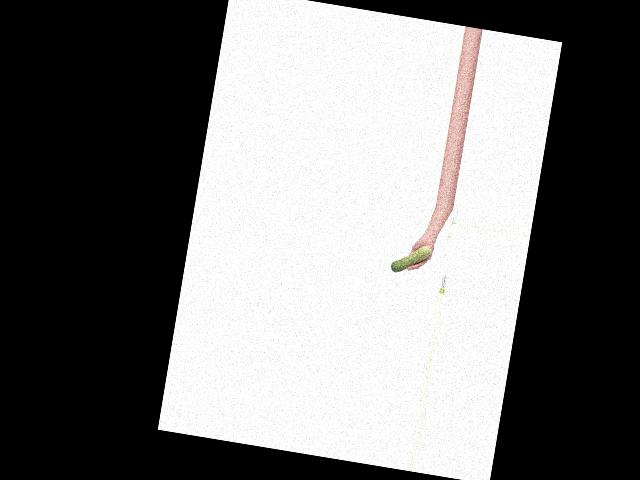cucumber: (391, 240, 432, 276)
